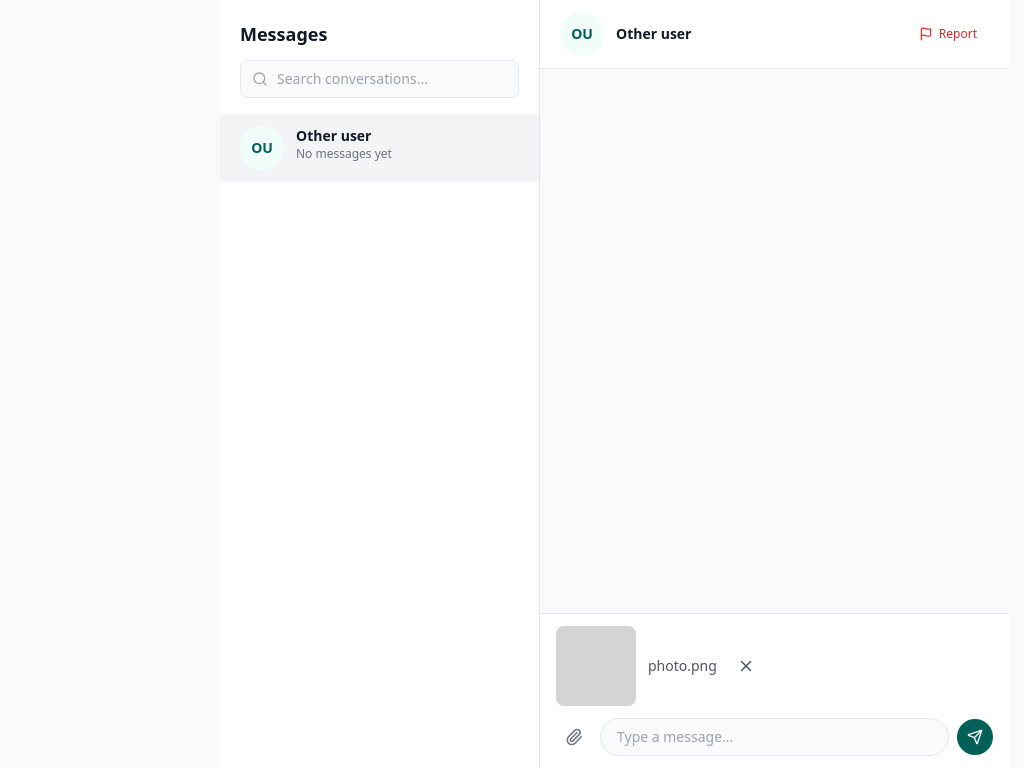
Scenario: a selected image can be removed
Earlier steps of the test are not shown.
Click the button named "Remove attachment" at {"x": 746, "y": 666}, box [729,649,763,683]
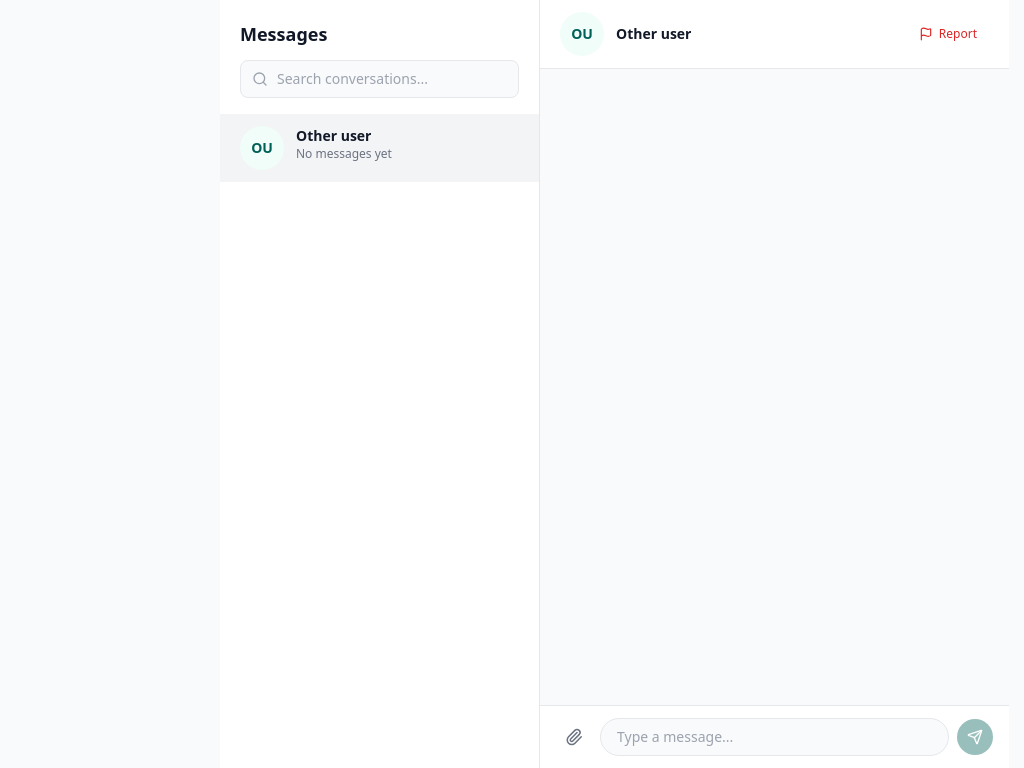
Result: the button named "Send message" is disabled at [957,719,993,755]
